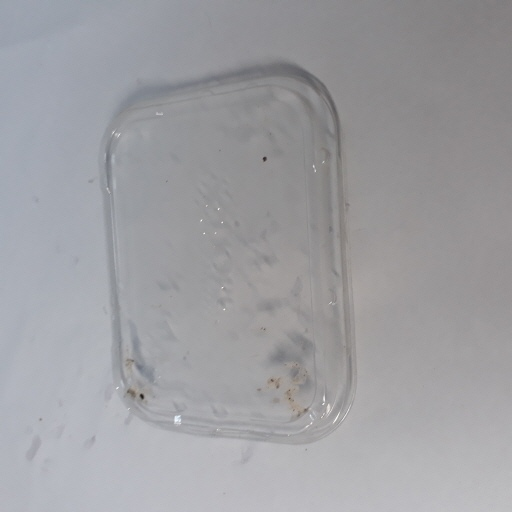Plastic_4: (101, 64, 357, 448)
